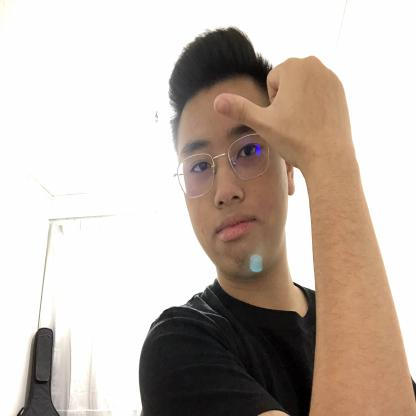right: (212, 56, 367, 176)
